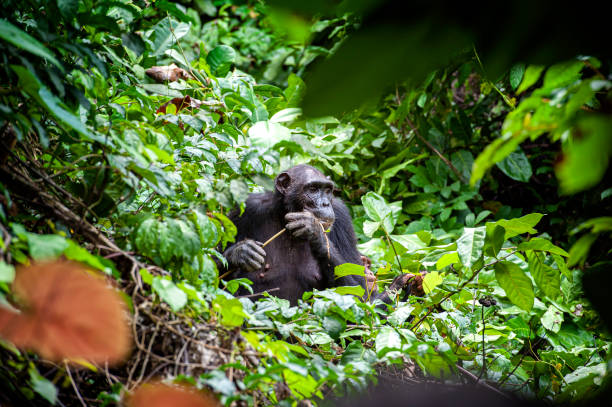chimpanzee: (274, 162, 348, 249)
